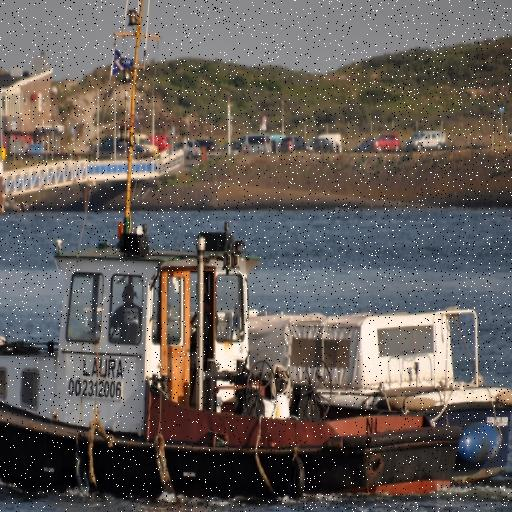tugboat: (1, 218, 512, 512)
